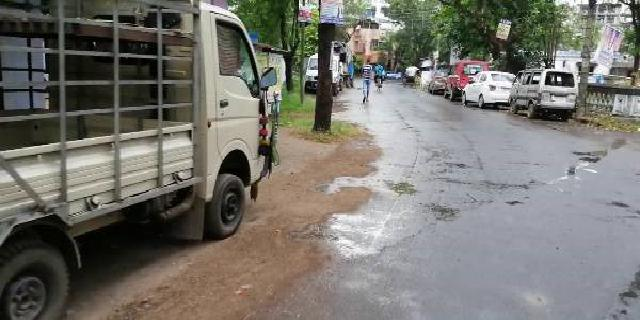Car: (463, 70, 516, 108), (443, 61, 483, 96)
Minitruck: (1, 7, 282, 320)
Van: (515, 70, 577, 121)
